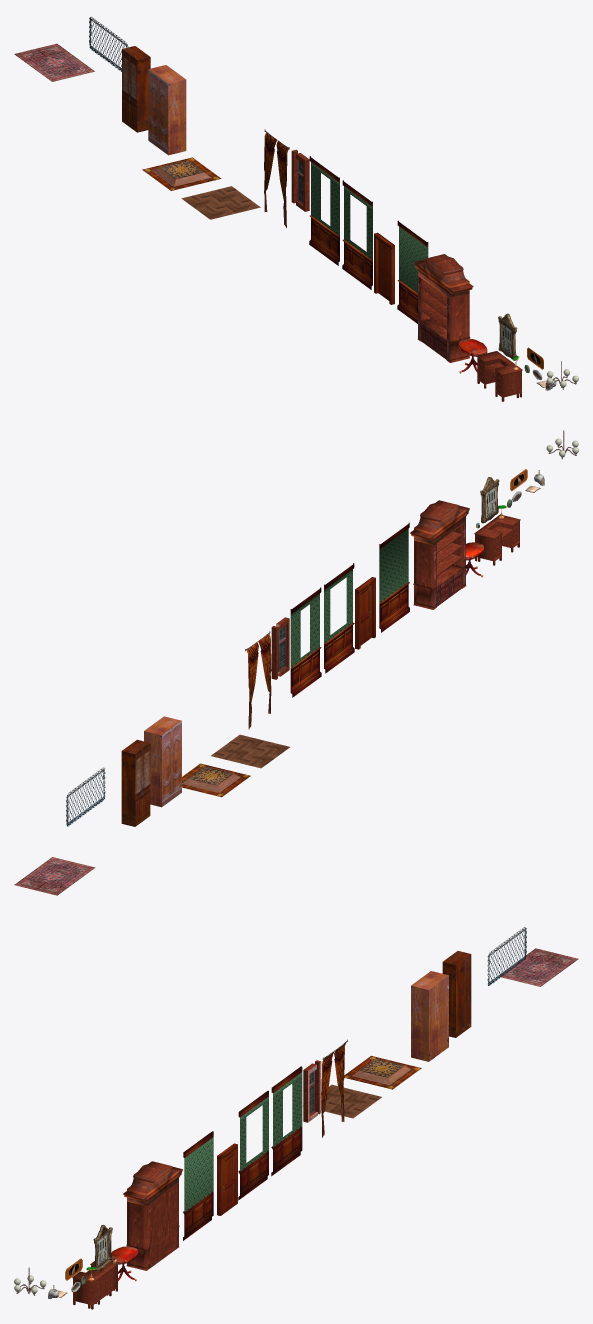
Rendered from Escritorio.fbx.
3 views of the same model, one above another, from view 1: azimuth 30°, elevation 25°; view 2: azimuth 150°, elevation 25°; view 3: azimuth 330°, elevation 25° (orthographic).
Visible parts, largest first — view 1: Estante, GuardaRoupas, Armario, JanelaUnica, JanelaDupla, Parede, TapeteEscritorio, MesaEscritorio, ChaoEscritorio, TetoEscritorio, Cortina, GradeEscritorio (+5 smaller); view 2: Estante, GuardaRoupas, Parede, Armario, JanelaUnica, JanelaDupla, TapeteEscritorio, ChaoEscritorio, MesaEscritorio, TetoEscritorio, Cortina, GradeEscritorio (+3 smaller); view 3: Estante, GuardaRoupas, Parede, JanelaUnica, Armario, JanelaDupla, TapeteEscritorio, TetoEscritorio, MesaEscritorio, ChaoEscritorio, Cortina, GradeEscritorio (+5 smaller).
Boxes of the visible parts, x1,y1,x2,y2 form: Estante: [414, 254, 473, 362]; GuardaRoupas: [148, 65, 186, 155]; Armario: [122, 46, 150, 132]; JanelaUnica: [309, 156, 339, 265]; JanelaDupla: [342, 180, 372, 289]; Parede: [397, 220, 428, 323]; TapeteEscritorio: [14, 43, 94, 81]; MesaEscritorio: [476, 351, 522, 401]; ChaoEscritorio: [181, 186, 260, 219]; TetoEscritorio: [142, 157, 221, 190]; Cortina: [264, 129, 289, 227]; GradeEscritorio: [89, 16, 128, 71]; Estante: [410, 500, 469, 609]; GuardaRoupas: [144, 716, 181, 807]; Parede: [379, 522, 409, 632]; Armario: [121, 739, 150, 826]; JanelaUnica: [290, 587, 321, 697]; JanelaDupla: [324, 563, 354, 673]; TapeteEscritorio: [14, 857, 95, 895]; ChaoEscritorio: [211, 734, 289, 768]; MesaEscritorio: [474, 514, 520, 565]; TetoEscritorio: [182, 763, 250, 797]; Cortina: [245, 631, 271, 729]; GradeEscritorio: [66, 767, 105, 826]; Estante: [123, 1161, 182, 1270]; GuardaRoupas: [411, 971, 448, 1061]; Parede: [183, 1131, 213, 1240]; JanelaUnica: [271, 1066, 302, 1176]; Armario: [442, 951, 471, 1037]; JanelaDupla: [238, 1090, 268, 1200]; TapeteEscritorio: [499, 948, 578, 986]; TetoEscritorio: [344, 1055, 421, 1089]; MesaEscritorio: [72, 1261, 118, 1309]; ChaoEscritorio: [321, 1084, 381, 1118]; Cortina: [321, 1039, 347, 1137]; GradeEscritorio: [487, 927, 526, 985].
Size of the model in its own units: 261 by 362 by 3961.
